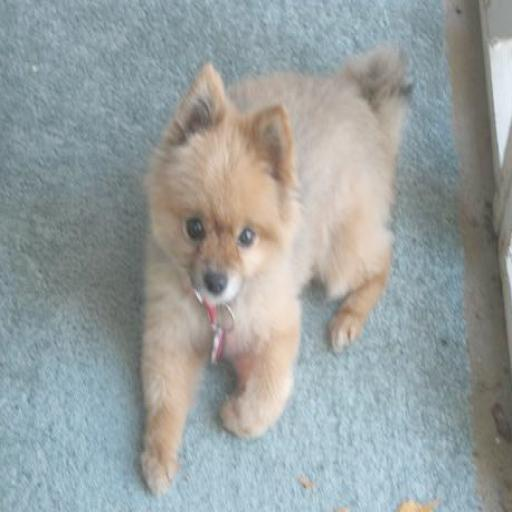dog_face: (148, 82, 298, 319)
